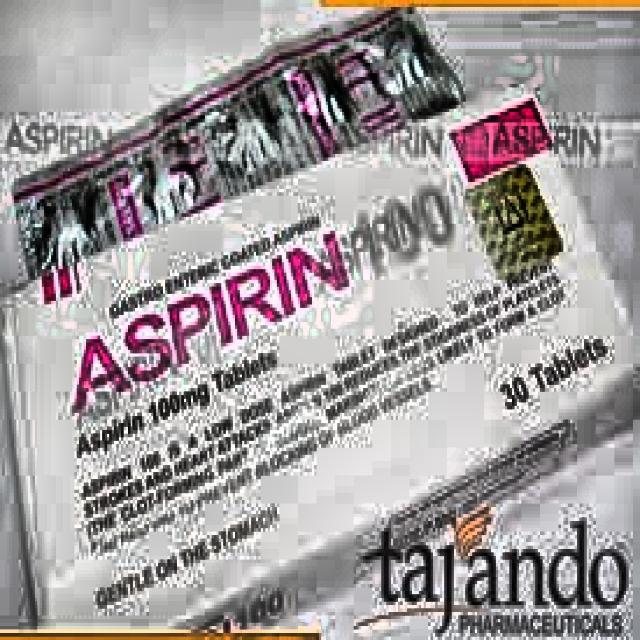Aspirin: (56, 174, 388, 478)
